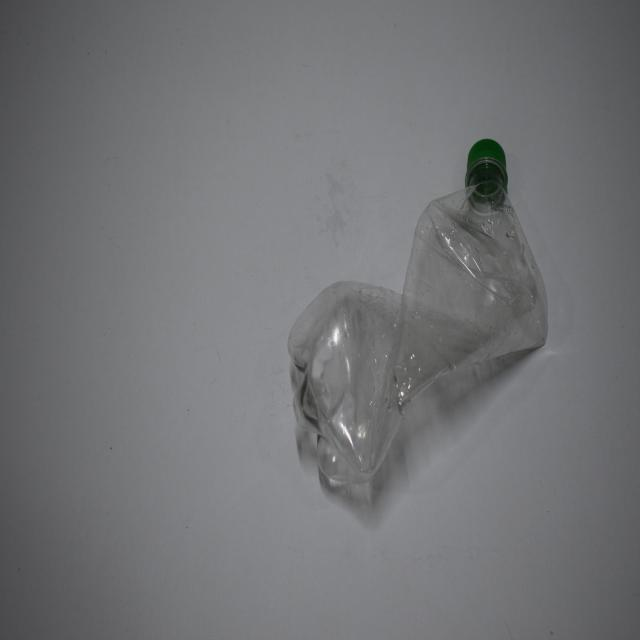bottle: (286, 133, 549, 497)
